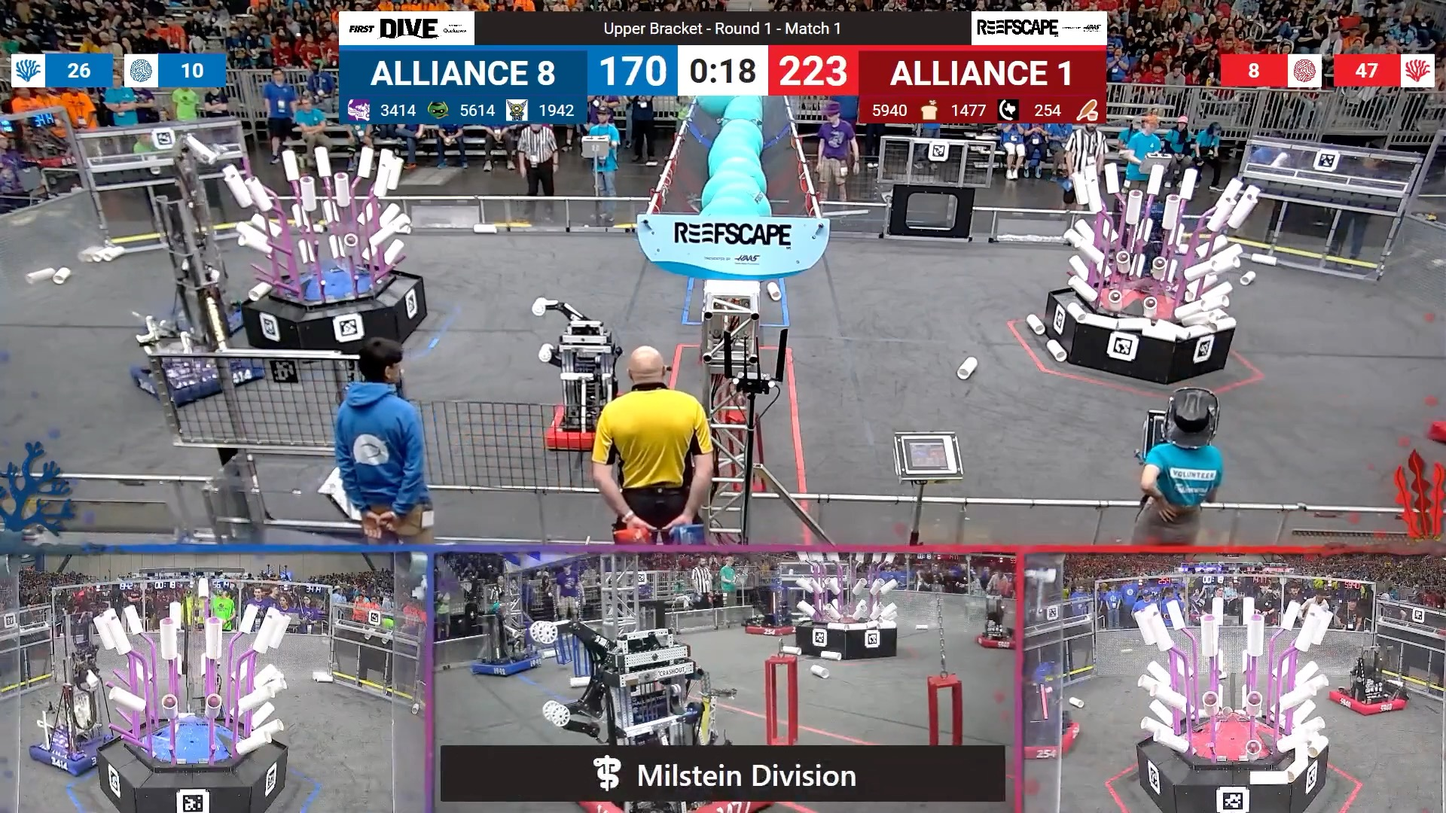bumpers: (125, 350, 270, 402), (28, 730, 126, 778), (543, 405, 616, 453), (1011, 716, 1084, 762), (1322, 684, 1414, 720), (466, 653, 545, 681), (973, 627, 1022, 651), (746, 618, 806, 637), (1427, 402, 1445, 461)
